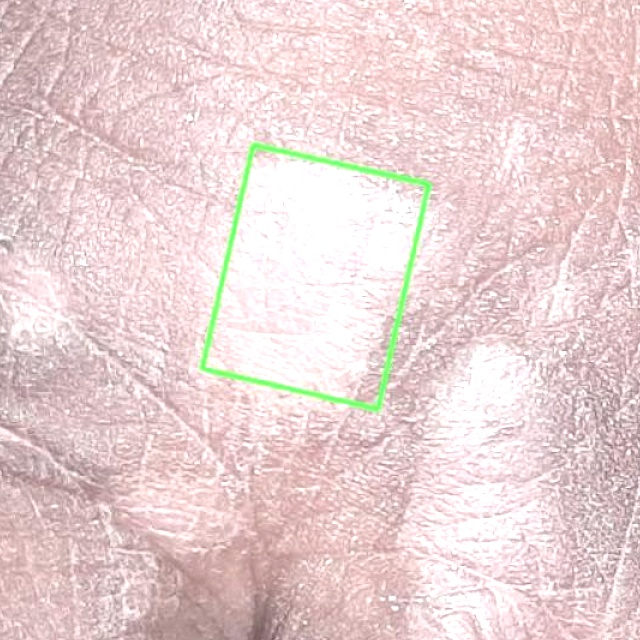Eczema: (201, 145, 428, 409)
